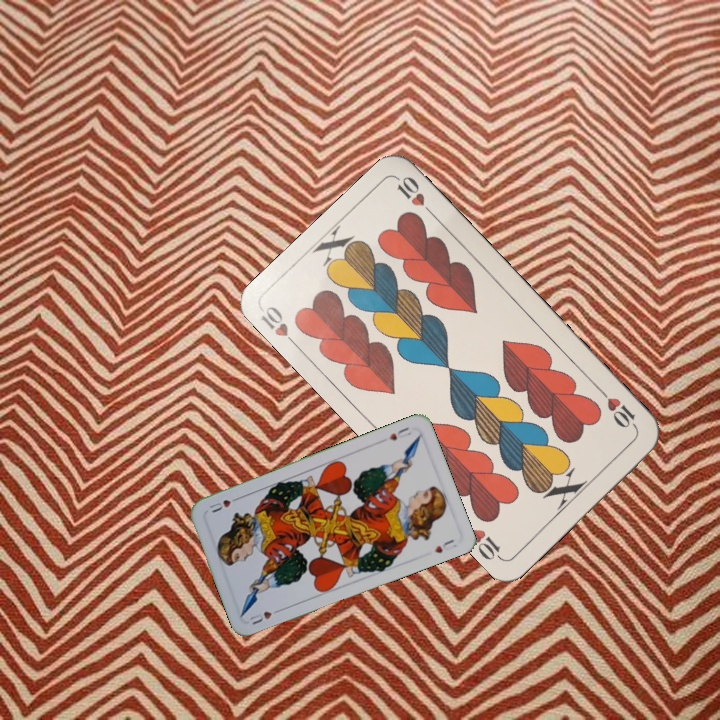H10: (257, 302, 303, 352), (594, 384, 640, 432)
HU: (246, 605, 284, 627), (385, 423, 414, 443)
